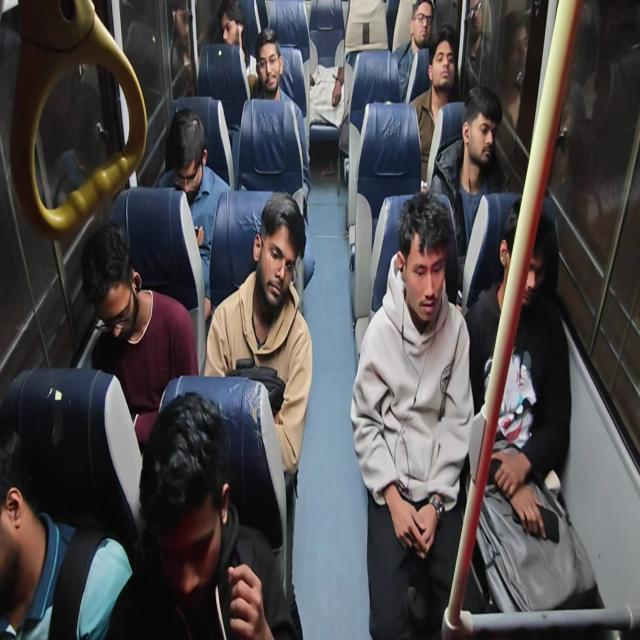person: (0, 376, 125, 640), (130, 424, 246, 640), (402, 233, 478, 422), (236, 197, 312, 337), (71, 234, 141, 369), (500, 221, 550, 371), (168, 92, 219, 183), (304, 51, 349, 139), (461, 72, 501, 160), (250, 27, 288, 81), (428, 40, 455, 94), (221, 0, 248, 39), (414, 0, 433, 44)
